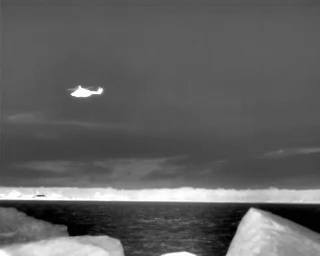HELICOPTER: (65, 79, 108, 103)
